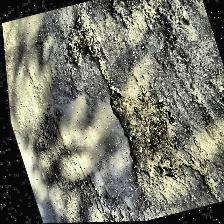pothole: (91, 66, 199, 200), (52, 9, 108, 69)
